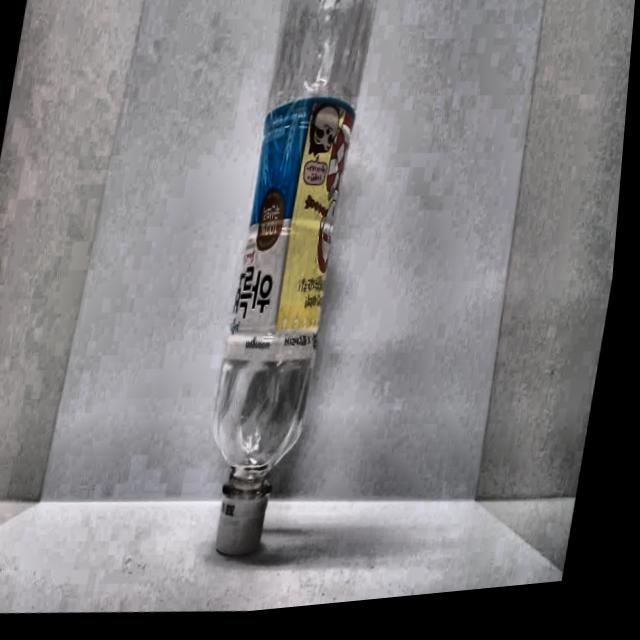Bottles: (180, 0, 404, 589)
